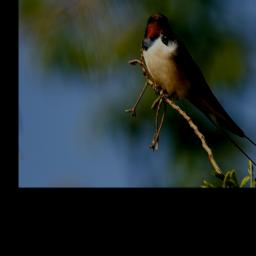Swallow: (143, 12, 256, 180)
